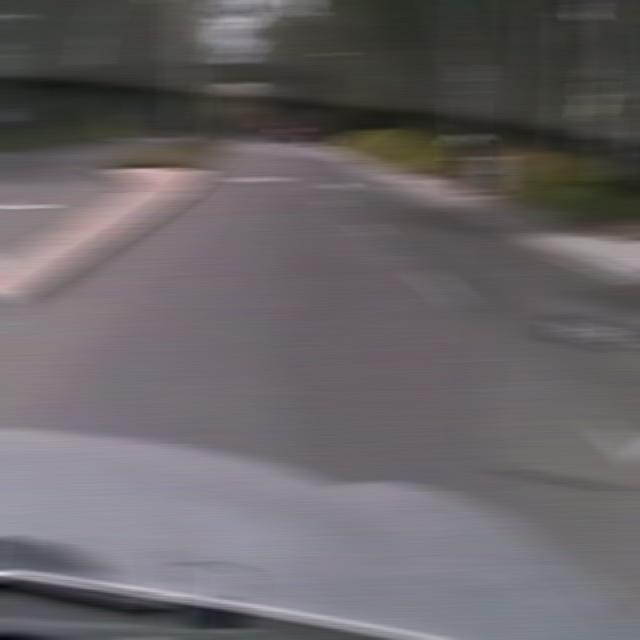speedLimit25: (451, 60, 484, 96)
